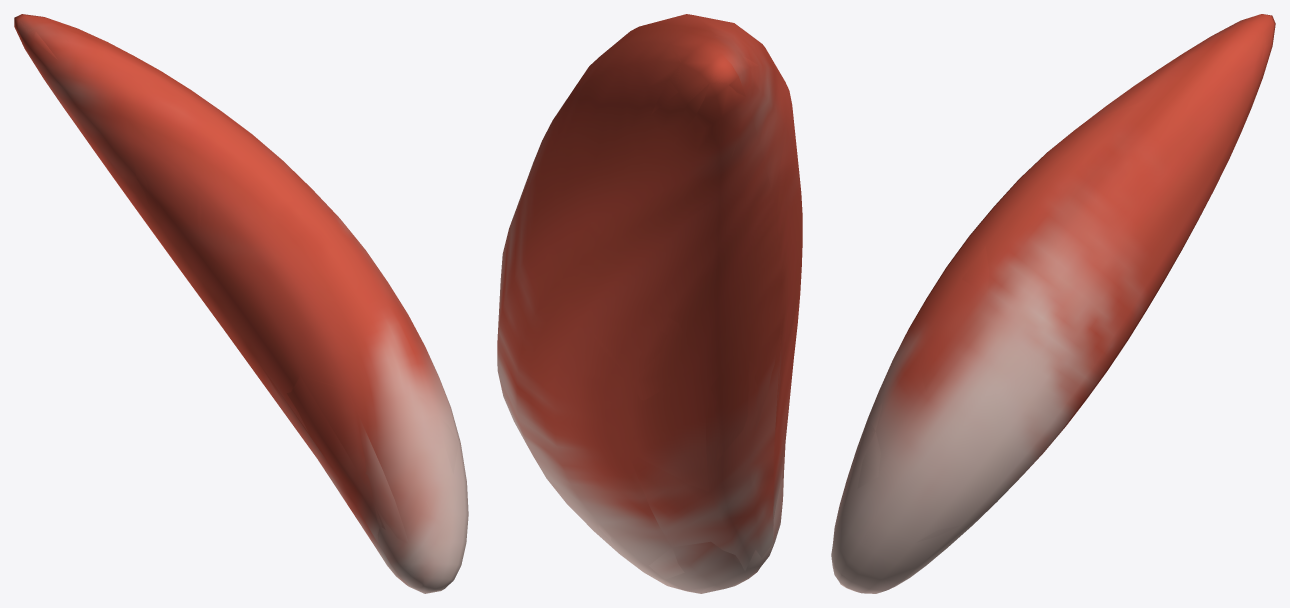
Rendered from L vastus lateralis.fbx.
3 renders of one model, left to right at view 1: azimuth 30°, elevation 25°; view 2: azimuth 150°, elevation 25°; view 3: azimuth 270°, elevation 25°, orthographic. The views are drawn at different scales.
Parts seen in each view (by area): view 1: L vastus lateralis, L vastus lateralis low; view 2: L vastus lateralis, L vastus lateralis low; view 3: L vastus lateralis, L vastus lateralis low.
Boxes of the visible parts, left/top/right/bottom form: L vastus lateralis: left=14, top=14, right=468, bottom=593; L vastus lateralis low: left=14, top=19, right=458, bottom=582; L vastus lateralis: left=497, top=14, right=802, bottom=593; L vastus lateralis low: left=500, top=15, right=800, bottom=593; L vastus lateralis: left=831, top=14, right=1275, bottom=593; L vastus lateralis low: left=838, top=19, right=1273, bottom=592.
Bounding box in the file's own units: 5.69 × 9.83 × 8.29.
